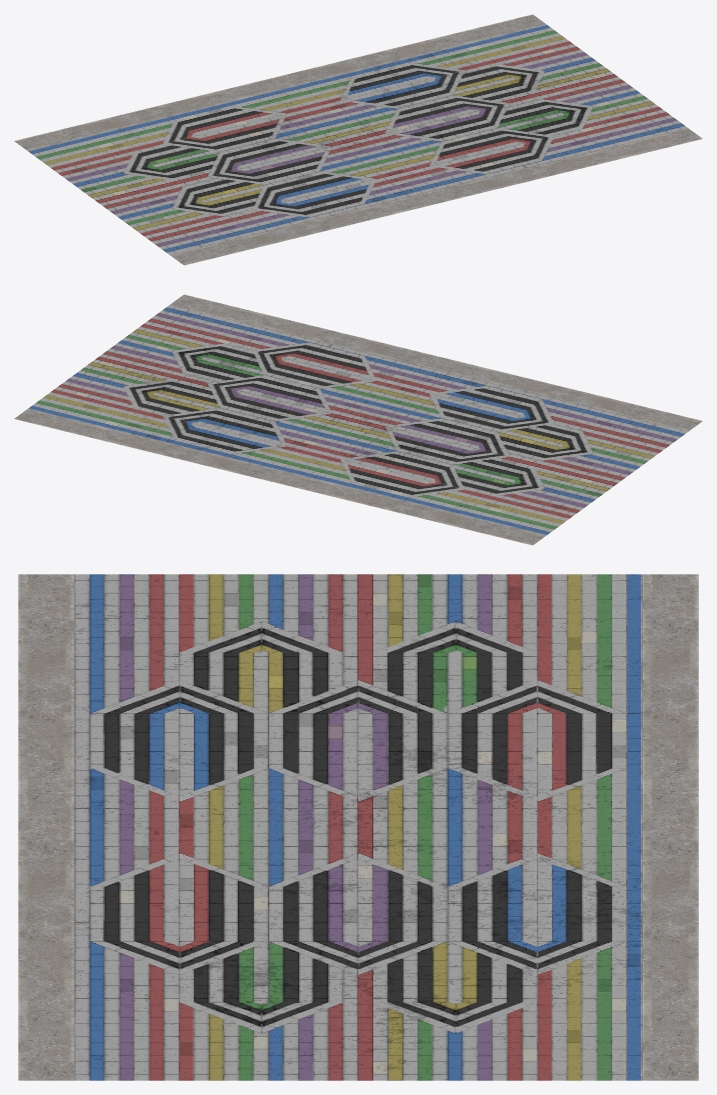
The model's file is MB_Rainbow_Pedestrian_Crossing.fbx.
3 renders of one model, top to bottom at view 1: azimuth 30°, elevation 25°; view 2: azimuth 150°, elevation 25°; view 3: azimuth 270°, elevation 25°, orthographic. The views are drawn at different scales.
Visible parts, largest first — view 1: MB_Rainbow_Pedestrian_Crossing; view 2: MB_Rainbow_Pedestrian_Crossing; view 3: MB_Rainbow_Pedestrian_Crossing.
Part boxes in pixels (x1,y1,x2,y2): MB_Rainbow_Pedestrian_Crossing: (14, 14, 702, 265); MB_Rainbow_Pedestrian_Crossing: (14, 294, 702, 545); MB_Rainbow_Pedestrian_Crossing: (18, 574, 698, 1080).
Size of the model in its own units: 652 by 0 by 370.
